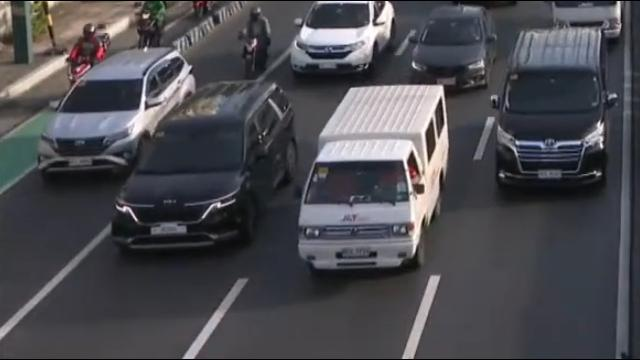car: (106, 83, 294, 258), (34, 49, 193, 185), (288, 0, 401, 81), (409, 8, 495, 91)
motorcycle: (66, 24, 114, 94), (236, 6, 271, 77), (135, 0, 166, 52)
truck: (548, 0, 622, 45)
van: (298, 85, 446, 271), (492, 25, 612, 191)
